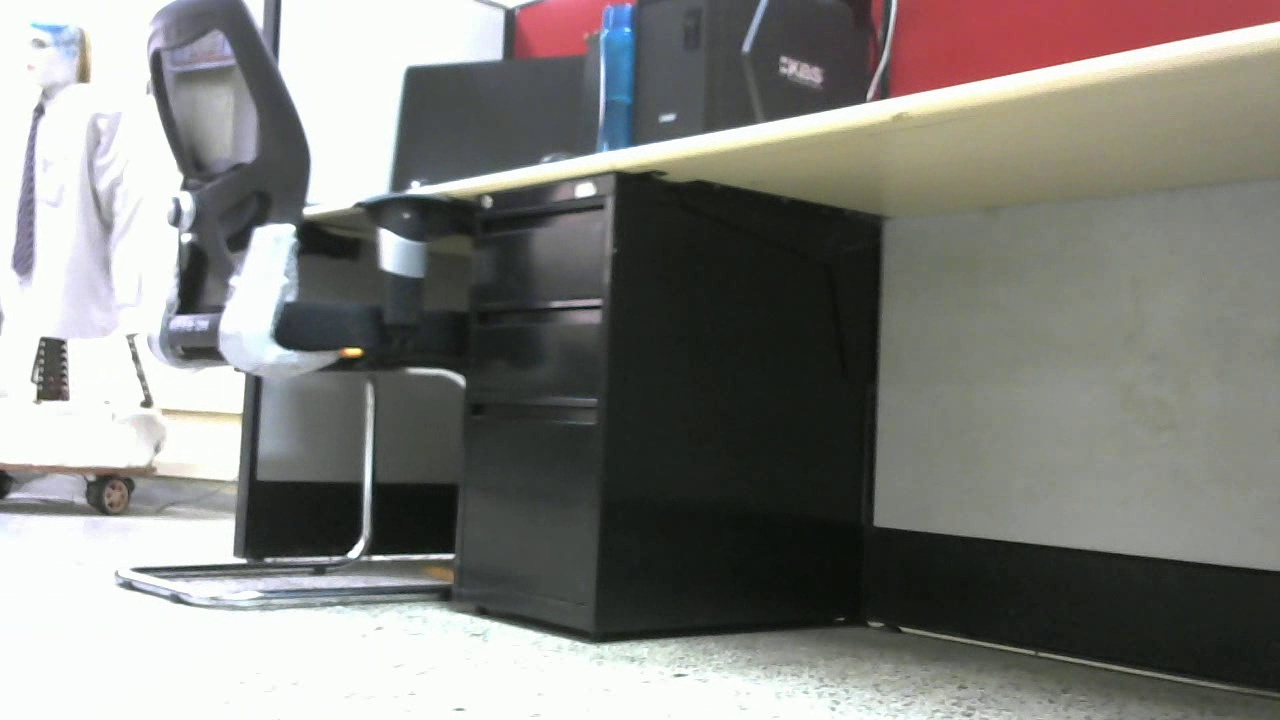chair: (117, 1, 472, 610)
